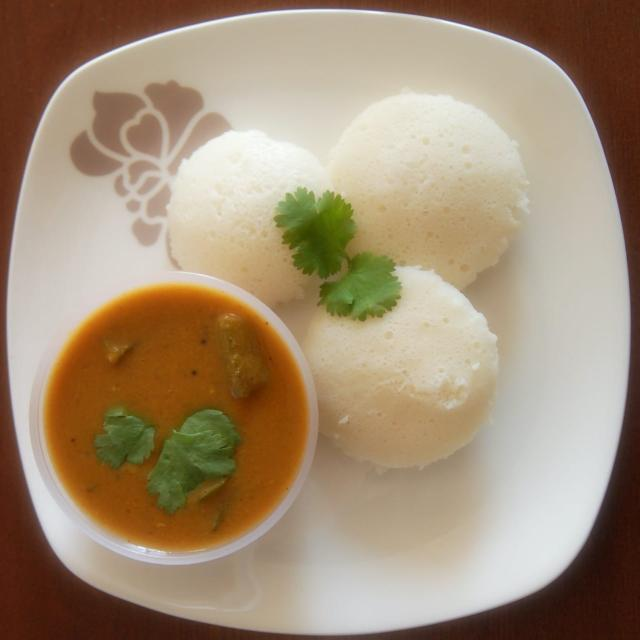Idly: (292, 258, 514, 475), (332, 89, 542, 298), (156, 120, 348, 310)
